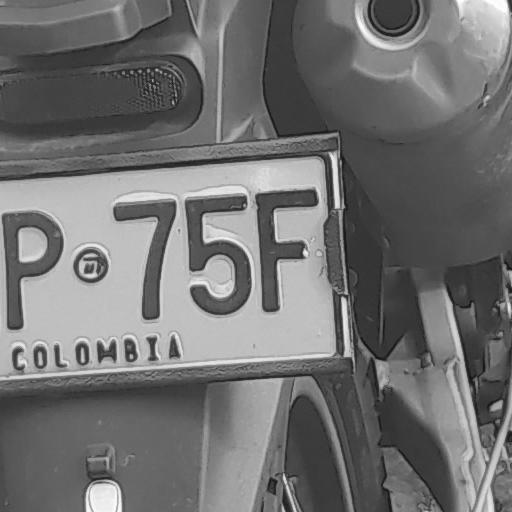placa: (0, 145, 353, 381)
